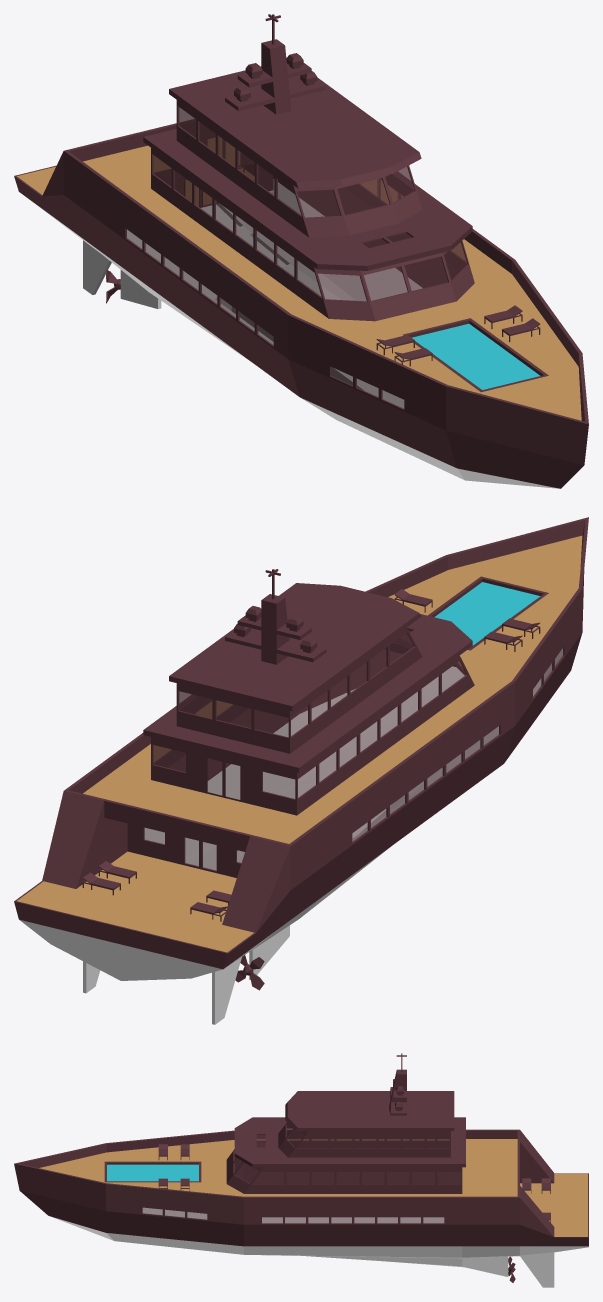
File: ship-yacht.fbx
3 renders of one model, top to bottom at view 1: azimuth 30°, elevation 25°; view 2: azimuth 150°, elevation 25°; view 3: azimuth 270°, elevation 25°, orthographic. The views are drawn at different scales.
Visible parts, largest first — view 1: ship-yacht; view 2: ship-yacht; view 3: ship-yacht.
Part boxes in pixels (box(x1,y1,x2,y2)): ship-yacht: box(14, 14, 588, 488); ship-yacht: box(14, 517, 588, 1024); ship-yacht: box(14, 1053, 588, 1287).
Size of the model in its own units: 14 by 20.52 by 49.99.
